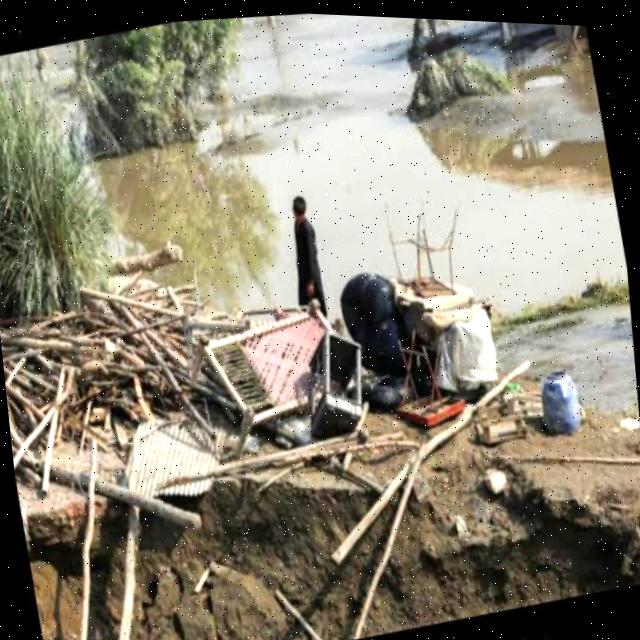civilian: (282, 185, 336, 321)
